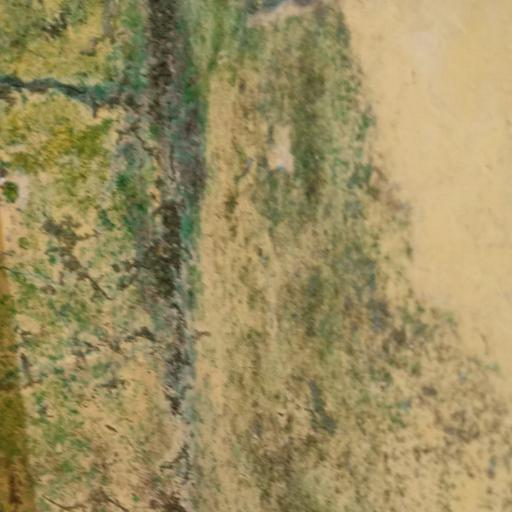algae: (0, 0, 344, 415)
